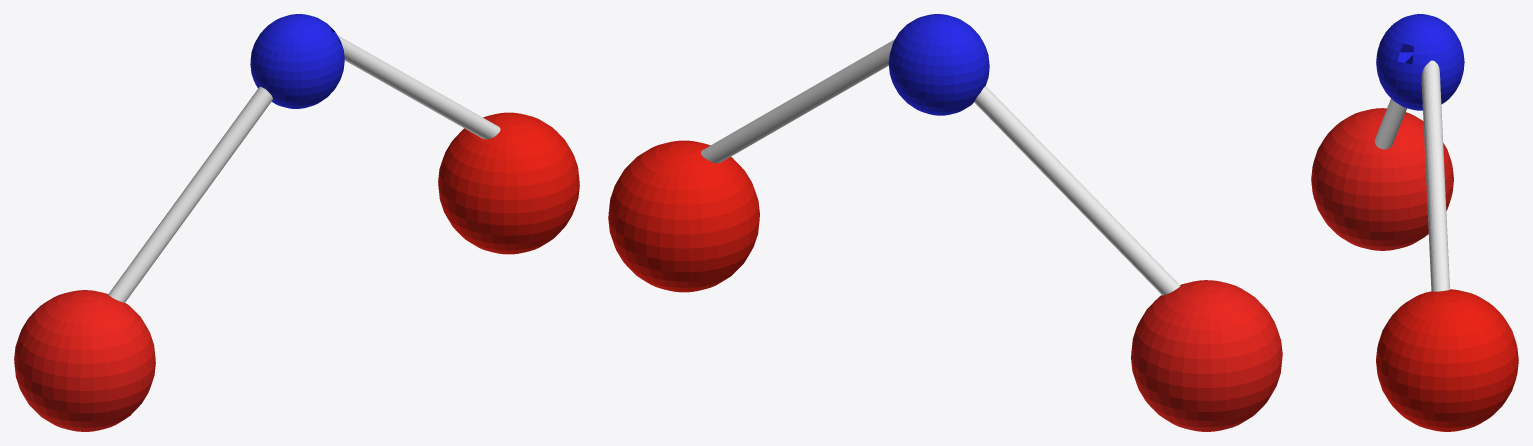
The picture shows the model from 3 angles, left to right: view 1: azimuth 30°, elevation 25°; view 2: azimuth 150°, elevation 25°; view 3: azimuth 270°, elevation 25°; orthographic projection. The views are drawn at different scales.
Parts seen in each view (by area): view 1: Sphere_Sphere.004, Sphere.002_Sphere.007, Sphere.001_Sphere.006, Cylinder_Cylinder.002, Cylinder.001_Cylinder.003; view 2: Sphere_Sphere.004, Sphere.002_Sphere.007, Sphere.001_Sphere.006, Cylinder_Cylinder.002, Cylinder.001_Cylinder.003; view 3: Sphere.002_Sphere.007, Sphere_Sphere.004, Sphere.001_Sphere.006, Cylinder.001_Cylinder.003, Cylinder_Cylinder.002.
Boxes of the visible parts, box(x1,y1,x2,y2) form: Sphere_Sphere.004: box(14, 290, 155, 431); Sphere.002_Sphere.007: box(438, 112, 579, 254); Sphere.001_Sphere.006: box(250, 14, 344, 108); Cylinder_Cylinder.002: box(108, 86, 272, 302); Cylinder.001_Cylinder.003: box(337, 35, 500, 139); Sphere_Sphere.004: box(1131, 280, 1282, 431); Sphere.002_Sphere.007: box(608, 140, 759, 292); Sphere.001_Sphere.006: box(888, 14, 989, 115); Cylinder_Cylinder.002: box(974, 86, 1180, 295); Cylinder.001_Cylinder.003: box(701, 39, 894, 163); Sphere.002_Sphere.007: box(1376, 289, 1518, 431); Sphere_Sphere.004: box(1311, 108, 1453, 250); Sphere.001_Sphere.006: box(1376, 14, 1464, 110); Cylinder.001_Cylinder.003: box(1421, 60, 1449, 291); Cylinder_Cylinder.002: box(1374, 99, 1406, 149).
Bounding box in the file's own units: 1.57 × 0.8717 × 0.4835.
